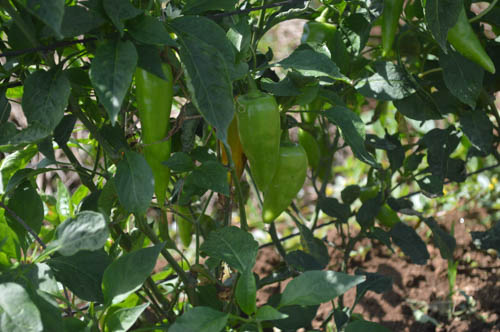ChiliPepper: (131, 69, 172, 201), (255, 146, 308, 232), (238, 94, 278, 192), (449, 14, 493, 76), (374, 7, 396, 56)
